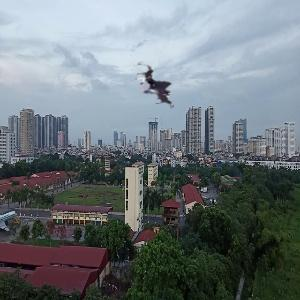drone: (135, 59, 192, 116)
